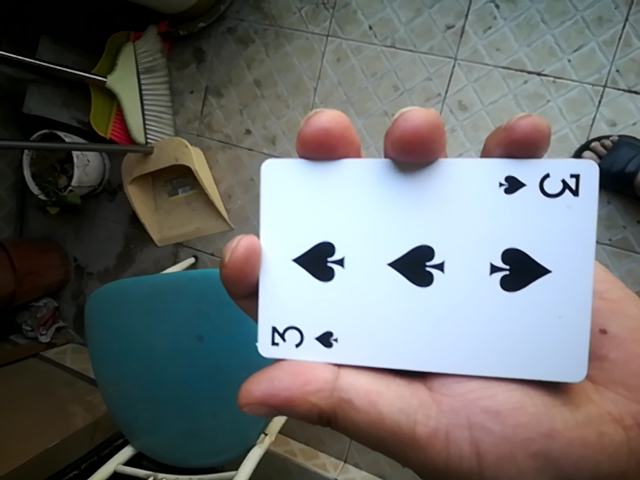ht 3: (244, 154, 601, 384)
